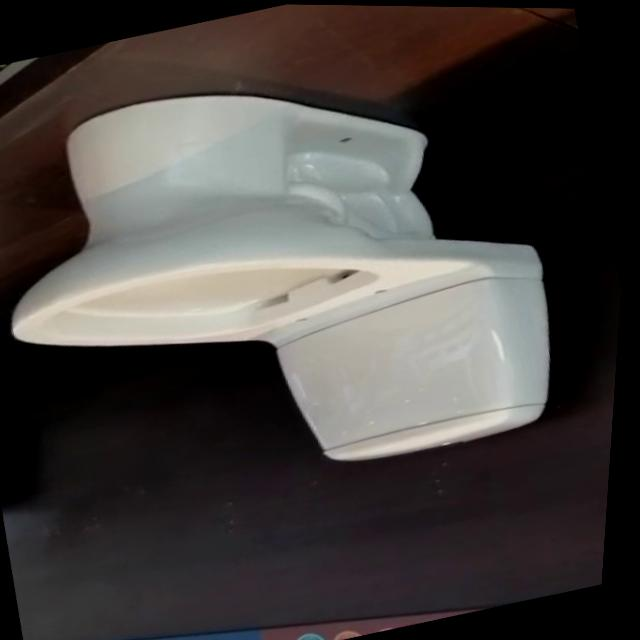toilet: (0, 18, 595, 539)
